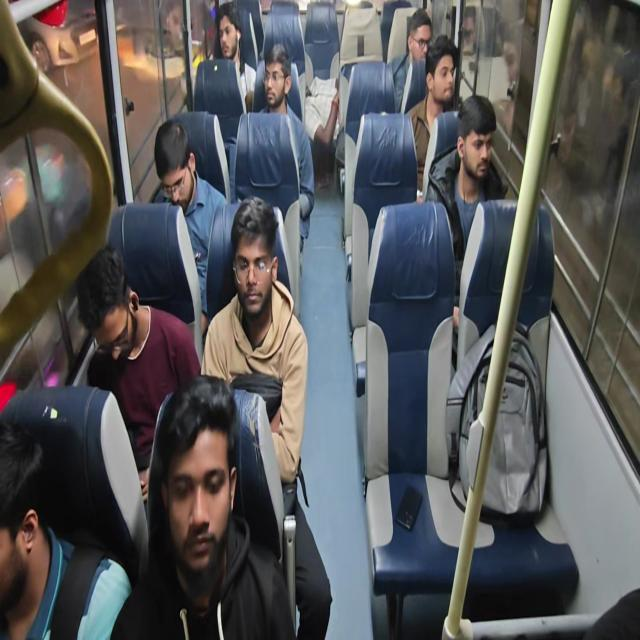person: (200, 195, 333, 638), (110, 373, 296, 639), (76, 243, 202, 503), (0, 419, 132, 639), (424, 93, 507, 326), (154, 119, 228, 326), (256, 42, 315, 245), (405, 34, 459, 200), (214, 2, 256, 113), (491, 32, 533, 139), (390, 8, 432, 114), (304, 74, 339, 188), (583, 587, 639, 639), (458, 5, 480, 56)
